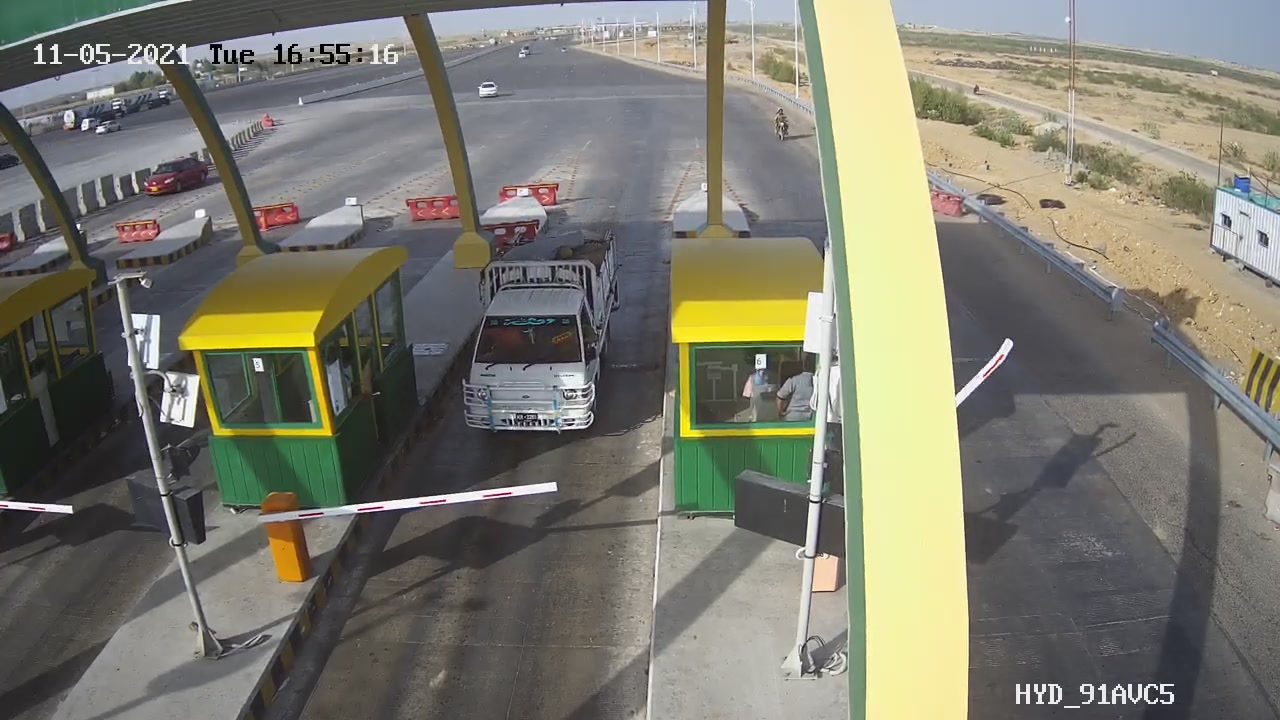F2: (441, 215, 642, 454)
